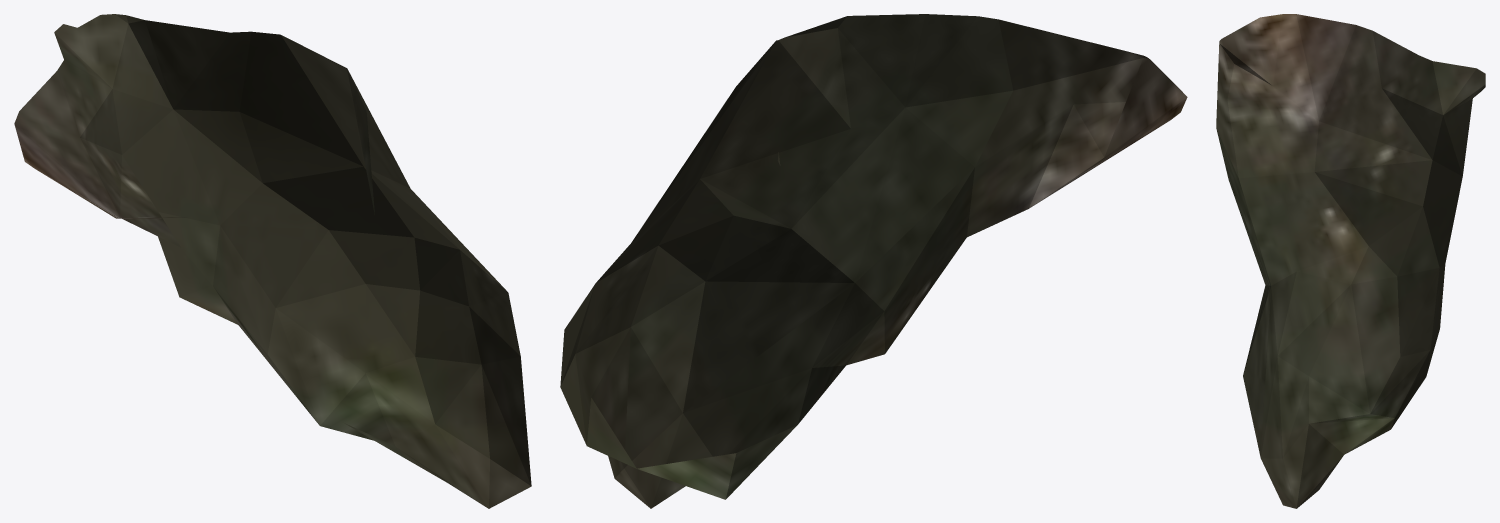
The picture shows the model from 3 angles, left to right: view 1: azimuth 30°, elevation 25°; view 2: azimuth 150°, elevation 25°; view 3: azimuth 270°, elevation 25°; orthographic projection. The views are drawn at different scales.
Bounding box in the file's own units: 1.67 × 1.48 × 1.09.
Materials: 1 (1 with a texture image).
